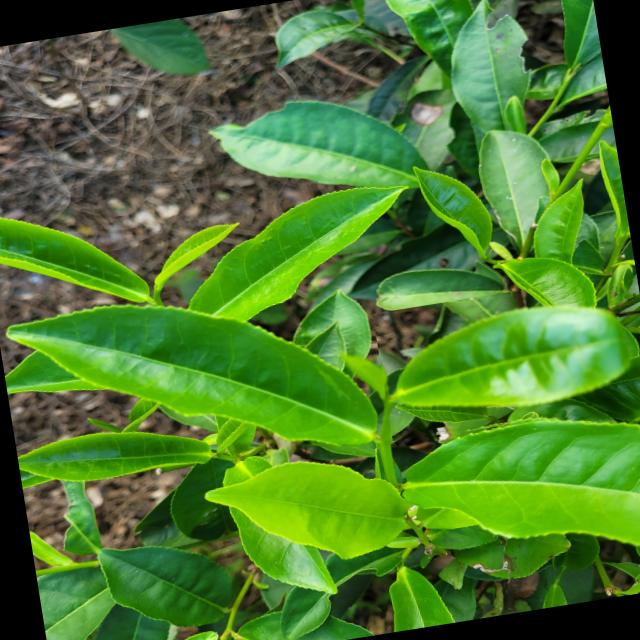Catagory A(1-2 days): (372, 272, 640, 447)
